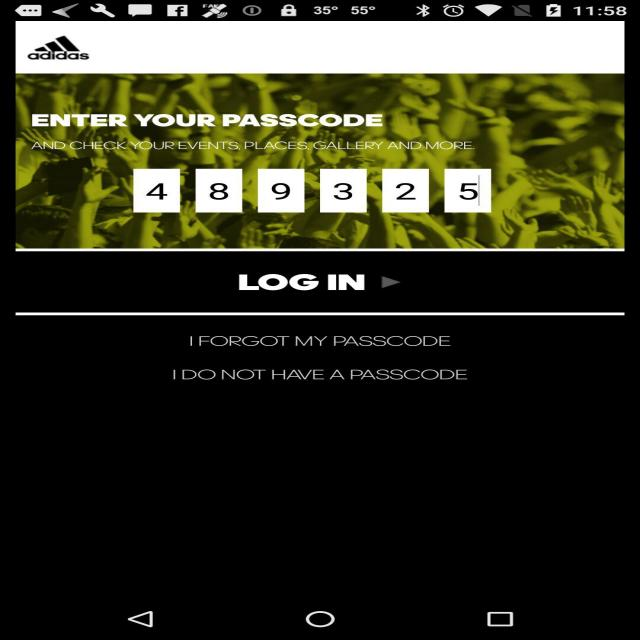button: (124, 331, 528, 404)
icon: (374, 272, 415, 297)
image: (18, 73, 617, 247), (18, 32, 98, 62)
text: (26, 108, 523, 225), (161, 366, 477, 389), (180, 332, 465, 352), (220, 270, 367, 298)
